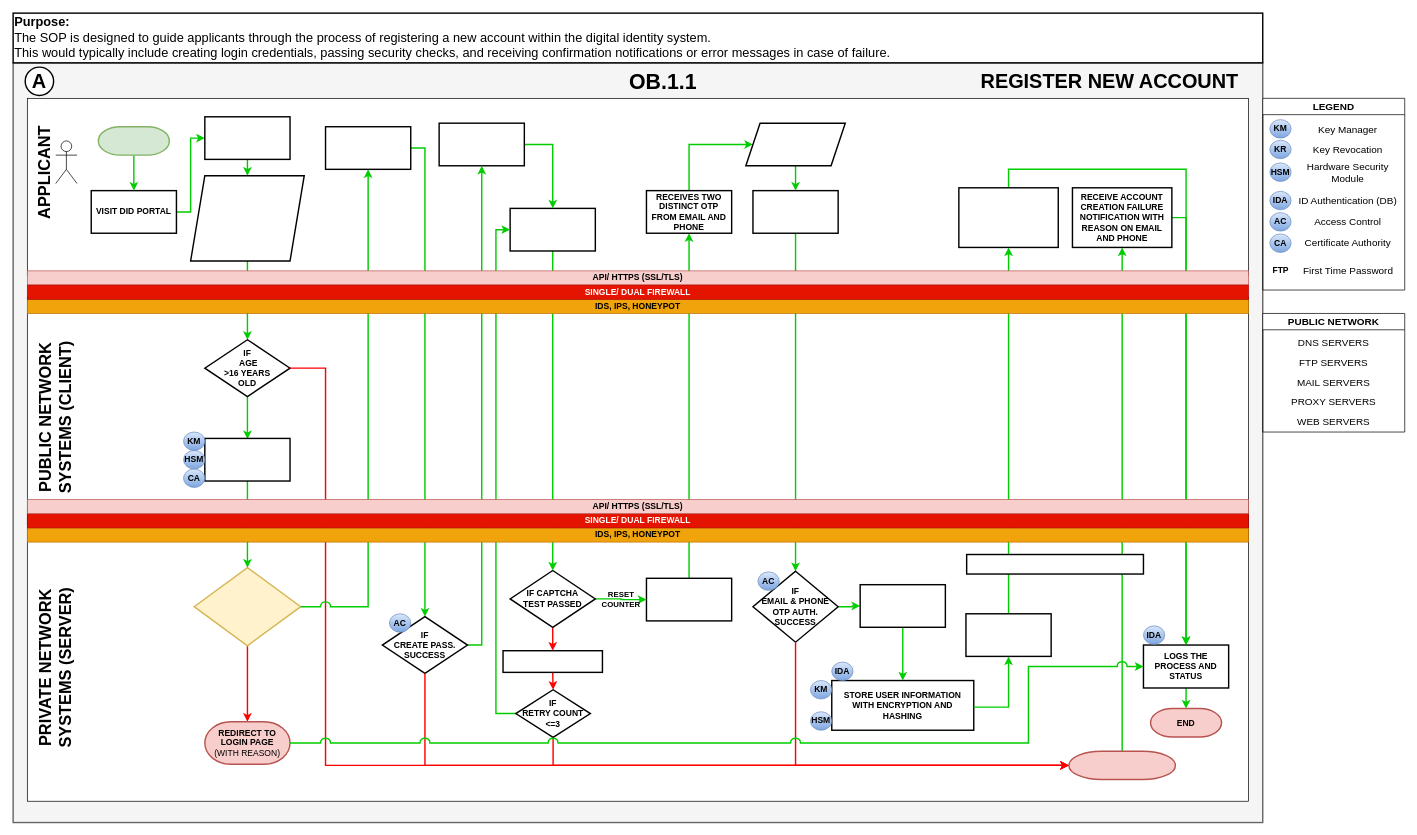
Image size: 1417x835. Some labels were removed from this diagram. The shapes that lost their labels are listed below. From the top down, each one's centre as x and y in pixels, then its label:
At pixel 133 140: "START (ONLINE)".
At pixel 247 138: "CLICK NEW APPLICANT SIGN-UP".
At pixel 367 148: "CREATE STRONG PASSWORD (without FTP) (B.1.4.1)".
At pixel 481 144: "ACCEPTS T&C FOR NEW ACCOUNT".
At pixel 795 144: "ENTER EMAIL AND PHONE OTP".
At pixel 66 162: "USER".
At pixel 247 218: "FILLS PERSONAL DETAILS: GIVEN NAME FAMILY NAME DOB EMAIL PHONE NUMBER".
At pixel 552 229: "PERFORMS CAPTCHA TEST".
At pixel 795 212: "OTP AUTHENTICATION (2FA) B.2.4.1.B".
At pixel 1008 217: "RECEIVE SUCCESSFUL ACCOUNT CREATION NOTIFICATION ON EMAIL & PHONE".
At pixel 247 459: "MASK & ENCRYPT USER DETAILS".
At pixel 1055 563: "NOTIFICATION GENERATOR".
At pixel 247 606: "IF EMAIL AND PHONE NUMBER NOT USED PREVIOUSLY".
At pixel 688 599: "GENERATE OTP - EMAIL AND PHONE B.2.4.1.A".
At pixel 902 606: "CREATE NEW USER ACCOUNT".
At pixel 1008 635: "ACTIVATE OTP AND PASSWORD AUTHENTICATOR".
At pixel 552 661: "EXCEPTION AND ERROR HANDLING (COUNTER)".
At pixel 1122 765: "TERMINATE PROCESS: WITH ERROR MESSAGE".
